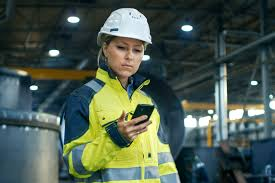Person_wearing_helmet: (93, 7, 151, 51)
